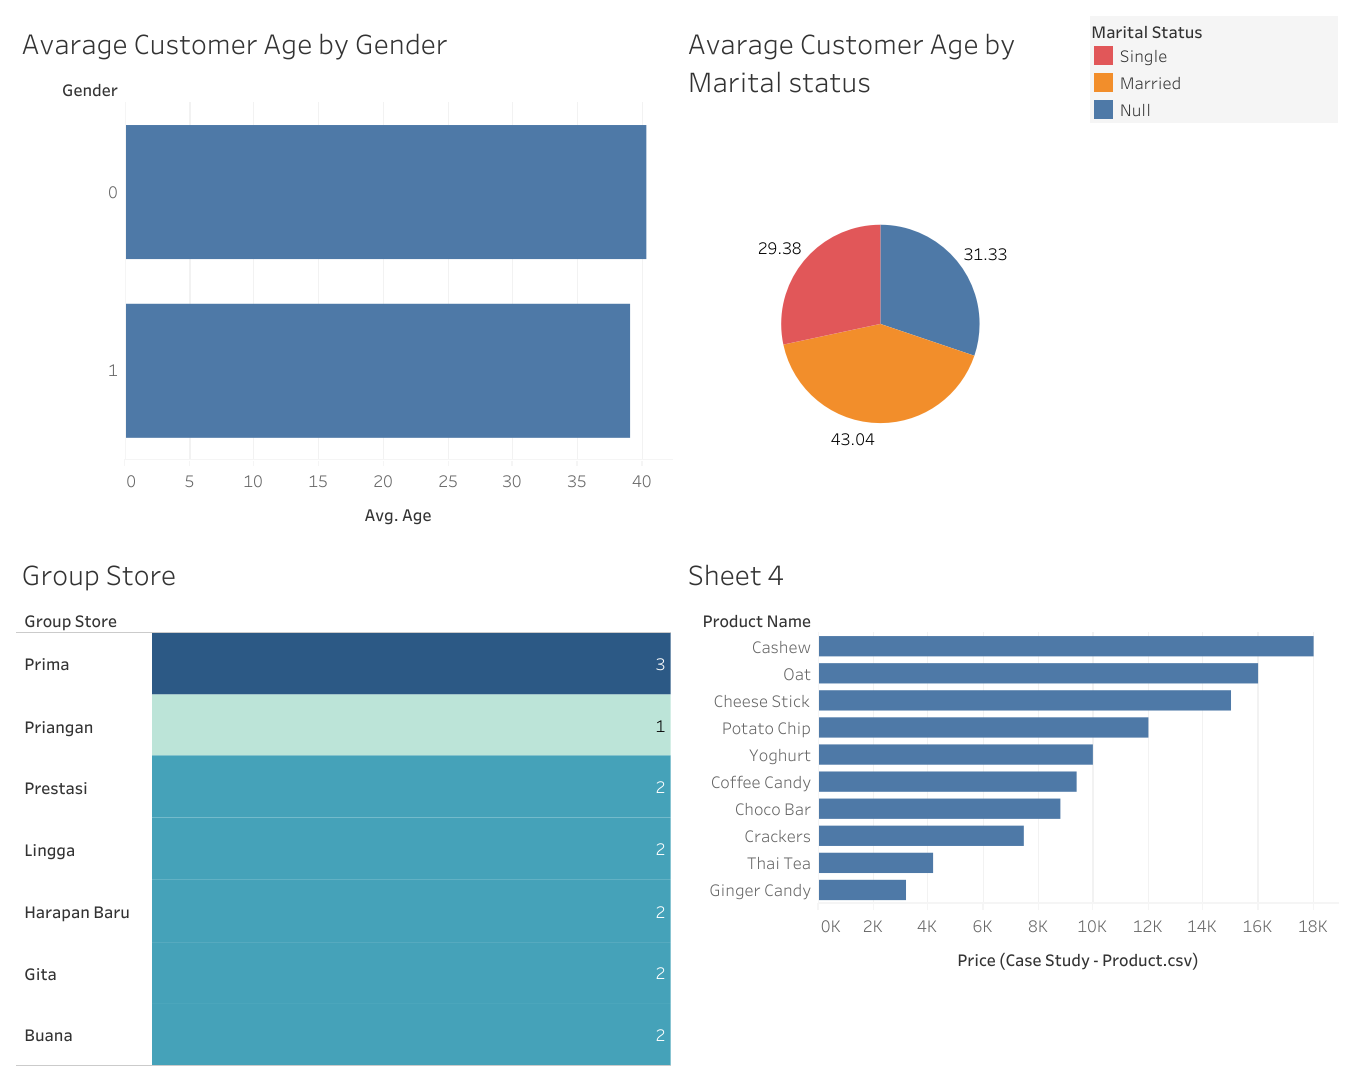

The dashboard page shown, as its layout file describes it:
{"tool":"tableau","page":{"name":"Dashboard 8","canvas":[1000,800],"ordinal":7},"visuals":[{"type":"worksheet","title":"Sheet 2","mark":"Automatic","rows":["Gender"],"cols":["Age"],"box":[8,8,492,392]},{"type":"worksheet","title":"Sheet 2 (2)","mark":"Pie","box":[500,8,301,392]},{"type":"legend","title":"Sheet 2 (2)","param":"[federated.0utkst50pzlfm212h04kf08wi7e0].[none:Marital Status:nk]","box":[801,8,191,392]},{"type":"worksheet","title":"Sheet 1","mark":"Square","rows":["GroupStore"],"box":[8,400,492,392]},{"type":"worksheet","title":"Sheet 4","mark":"Automatic","rows":["Product Name"],"cols":["Price (Case Study - Product.csv)"],"box":[500,400,492,392]}]}

Visuals, with their boxes in screenshot pixels (x1, y1, x2, y2), scaled from the page's 1000x800 canvas onto the 1353x1082 screenshot:
"Sheet 2" worksheet: l=11, t=11, r=676, b=541
"Sheet 2 (2)" worksheet (Pie marks): l=676, t=11, r=1084, b=541
"Sheet 2 (2)" legend: l=1084, t=11, r=1342, b=541
"Sheet 1" worksheet (Square marks): l=11, t=541, r=676, b=1071
"Sheet 4" worksheet: l=676, t=541, r=1342, b=1071
